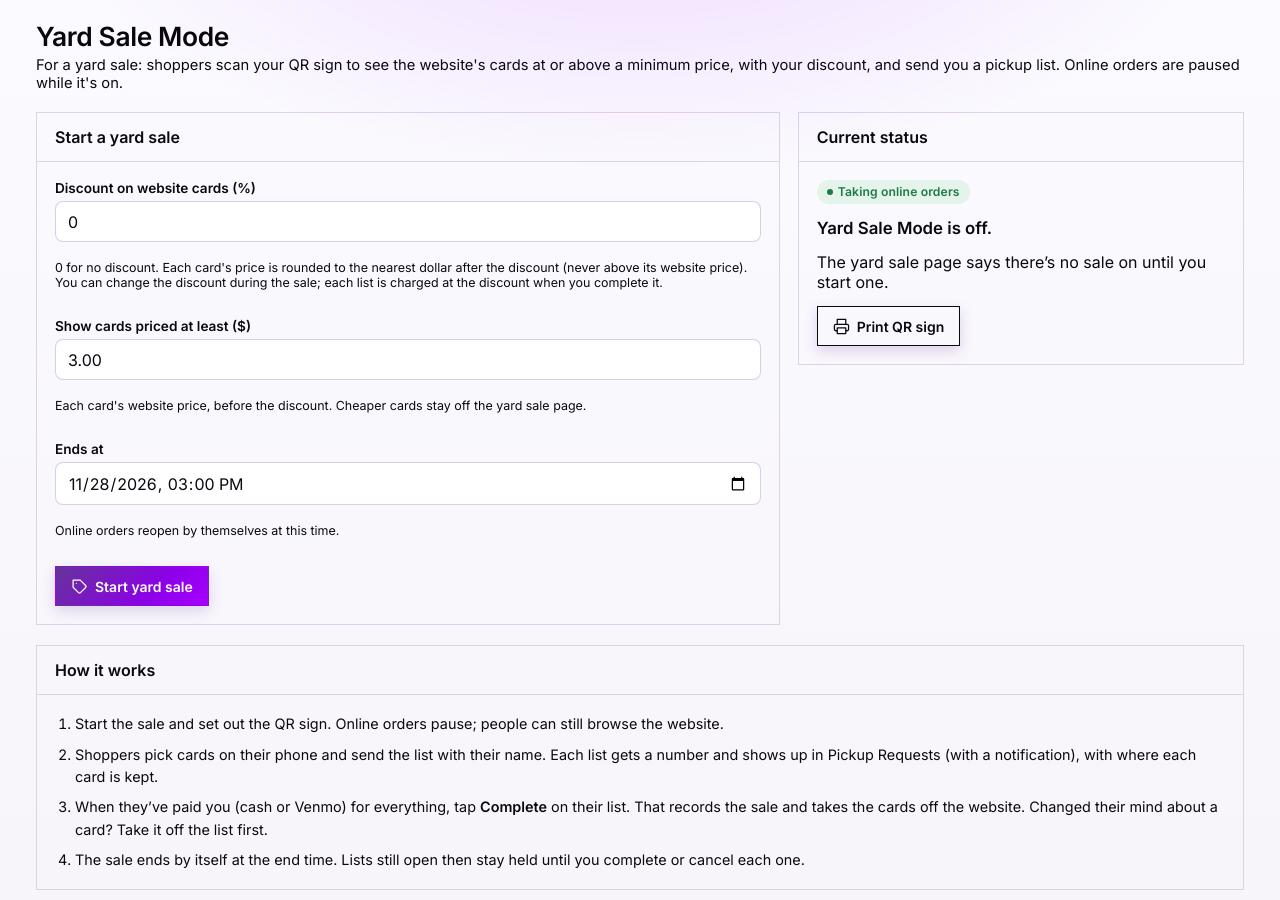
Test case: the Yard Sale Mode page › explains that the minimum is the website price, before the discount
Replace the text in the field labelled "Discount on website cards (%)" with "20": x=408, y=222 [55,201,761,242]
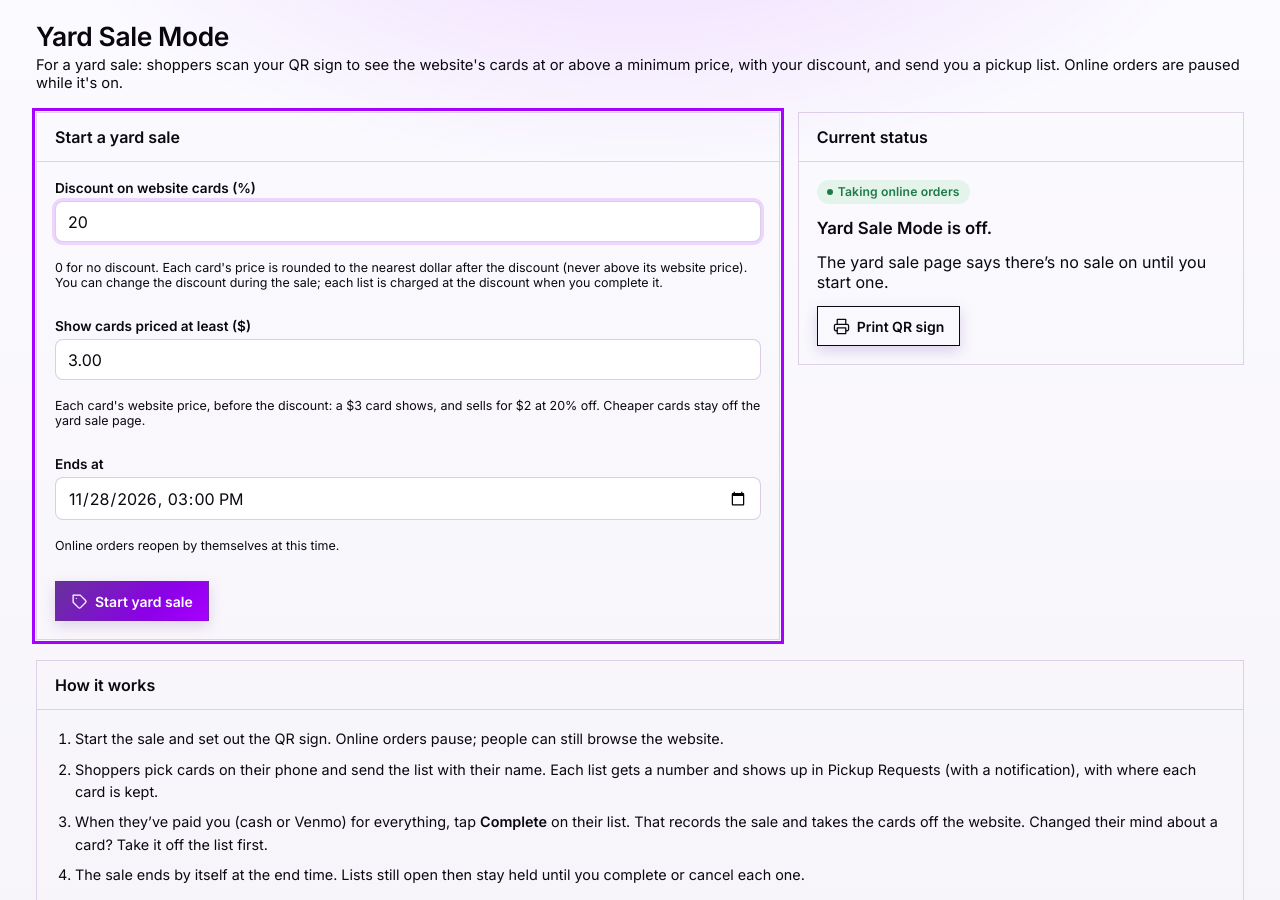
Replace the text in the field labelled "Show cards priced at least ($)" with "3": x=408, y=360 [55,339,761,380]
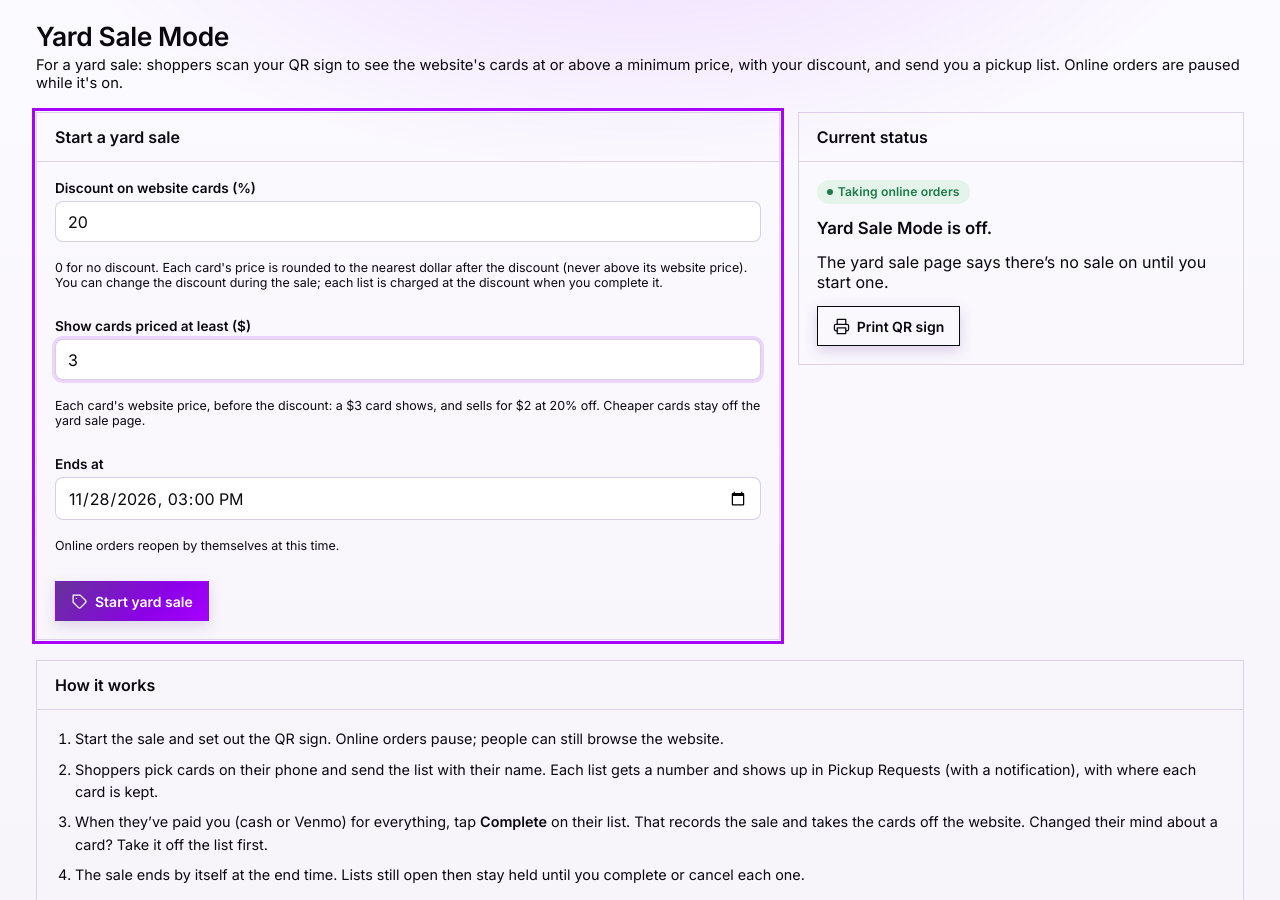
Expected: the text "Each card's website price, before the discount: a $3 card shows, and sells for $2 at 20% off. Cheaper cards stay off the" is shown, [55,398,760,428]
Replace the text in the field labelled "Discount on website cards (%)" with "0": x=408, y=222 [55,201,761,242]
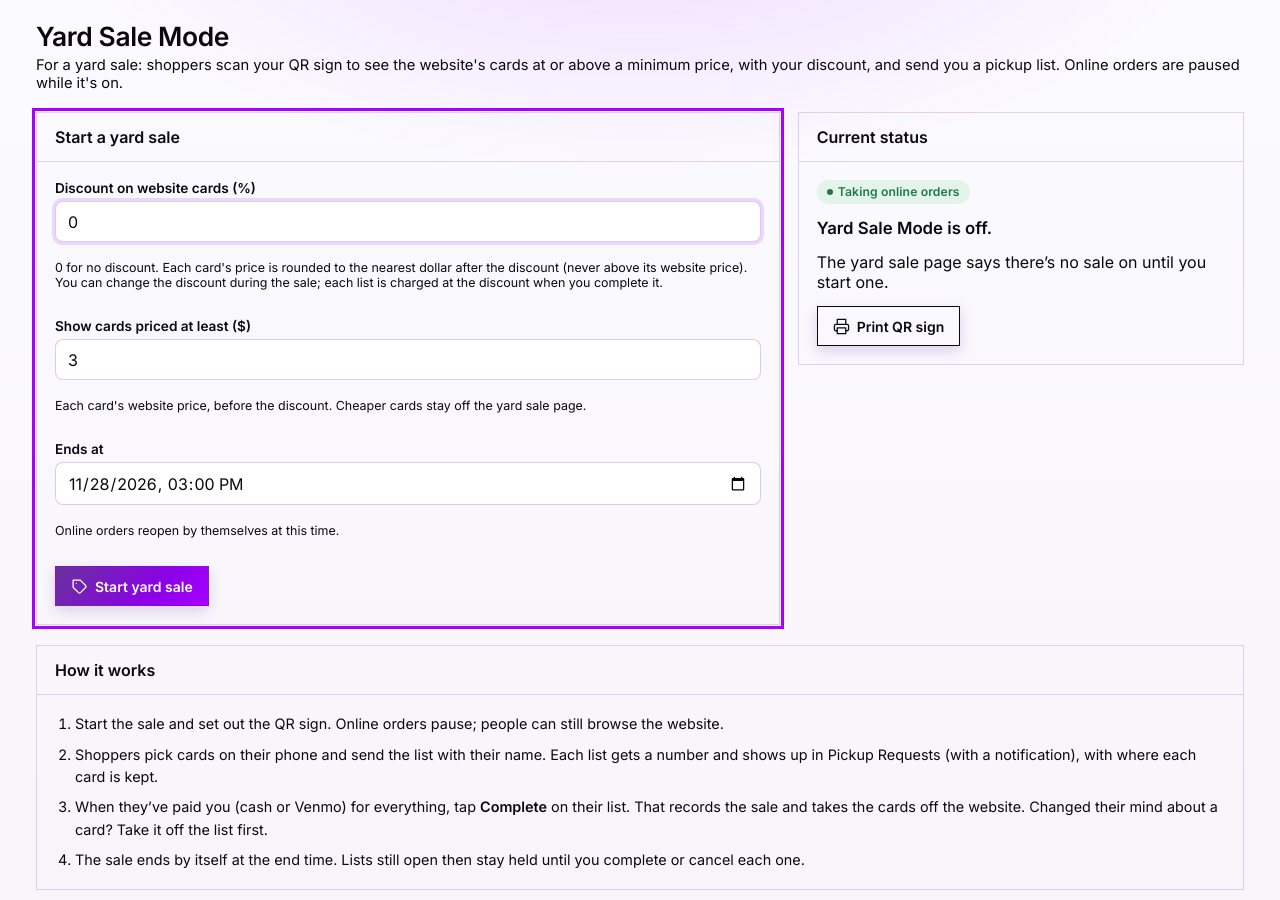
Result: the text "Each card's website price, before the discount. Cheaper cards stay off the yard sale page." is shown at [55,398,586,413]
Replace the text in the field labelled "Show cards priced at least ($)" with "0": x=408, y=360 [55,339,761,380]
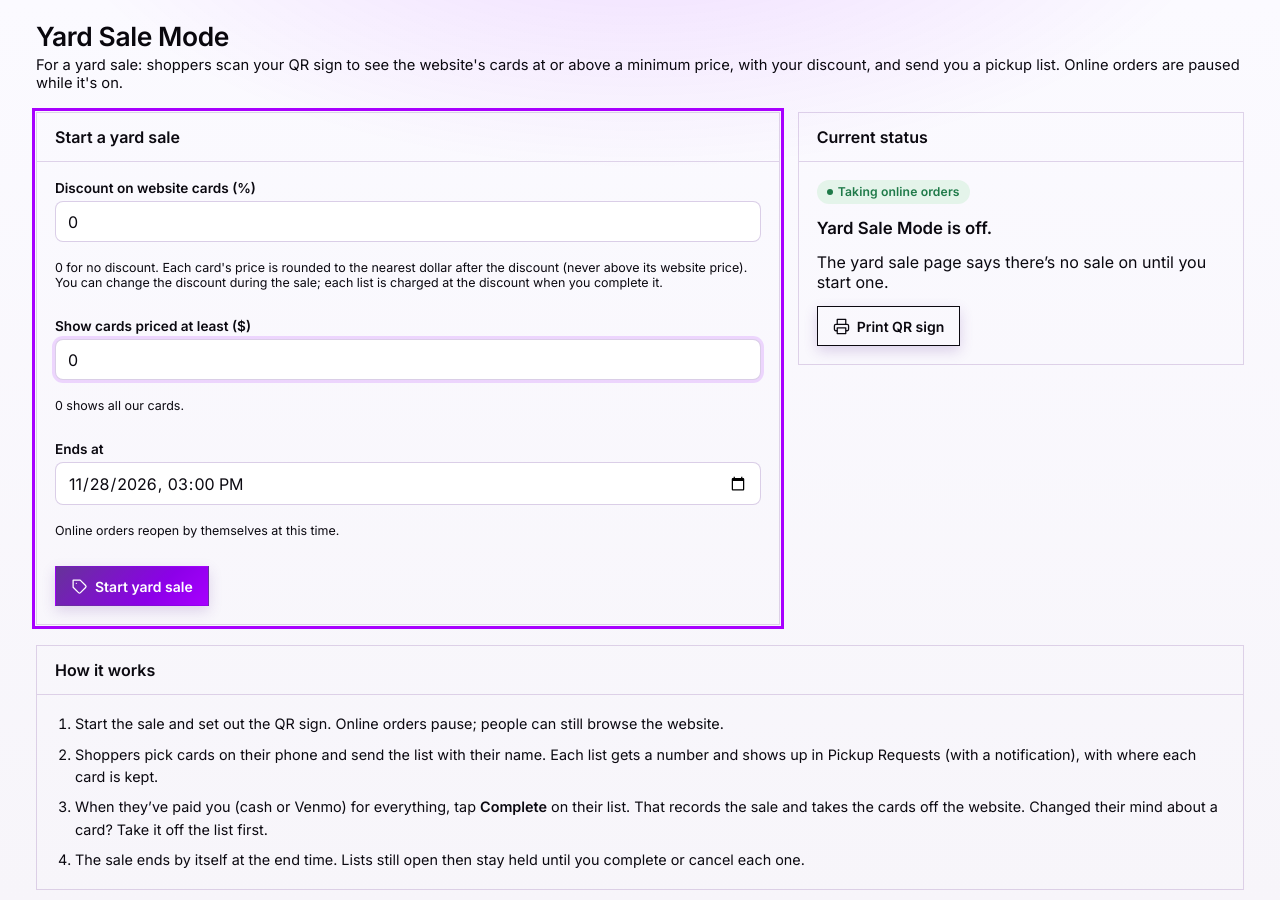
Result: the text "0 shows all our cards." is shown at [55,398,184,413]
